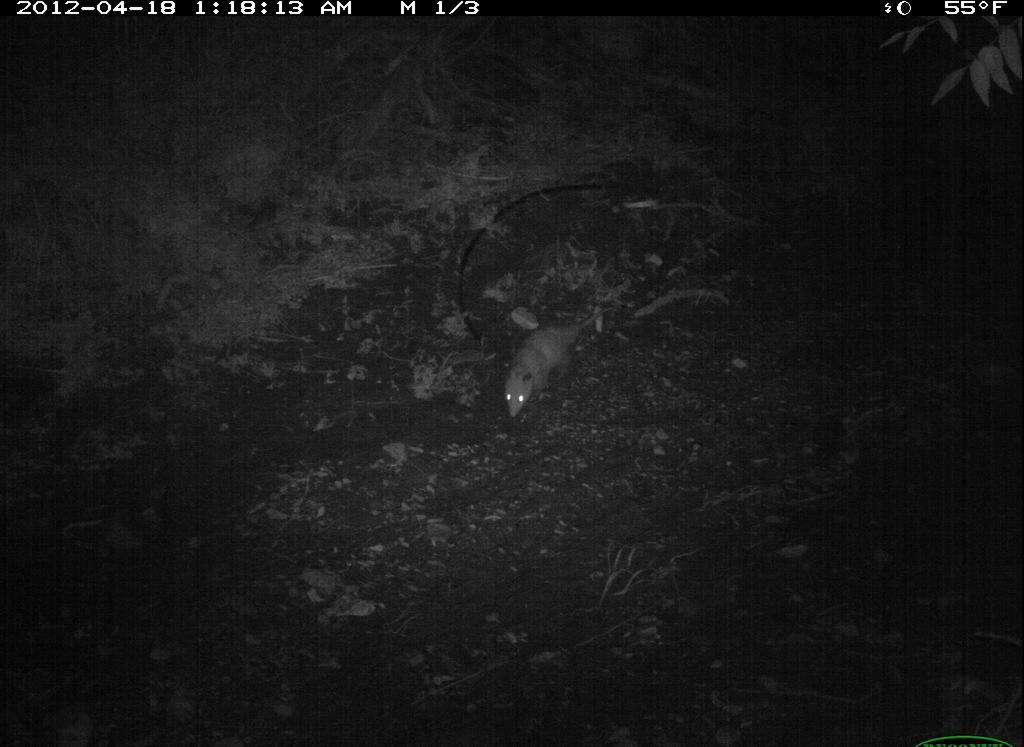opossum: (493, 291, 620, 420)
